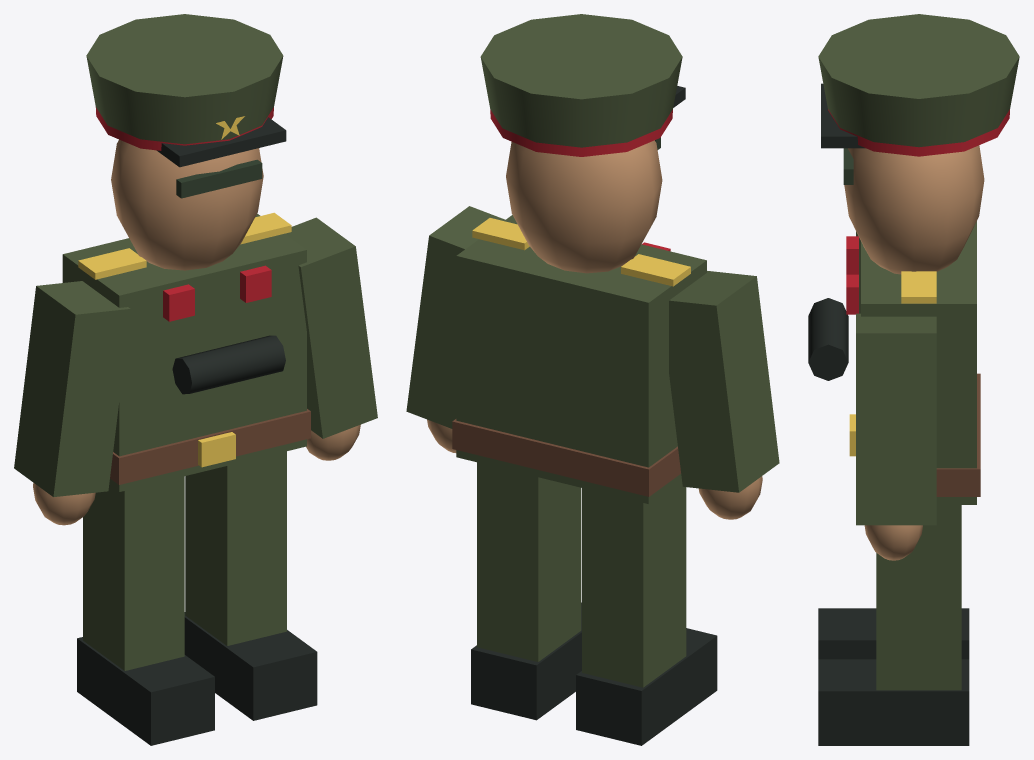
3 renders of one model, left to right at view 1: azimuth 30°, elevation 25°; view 2: azimuth 150°, elevation 25°; view 3: azimuth 270°, elevation 25°, orthographic. The views are drawn at different scales.
Visible parts, largest first — view 1: vietnam-K; view 2: vietnam-K; view 3: vietnam-K.
Boxes of the visible parts, x1,y1,x2,y2 form: vietnam-K: (14, 14, 377, 745); vietnam-K: (406, 14, 779, 745); vietnam-K: (808, 14, 1019, 745).
Size of the model in its own units: 0.7608 by 1.42 by 0.42.
